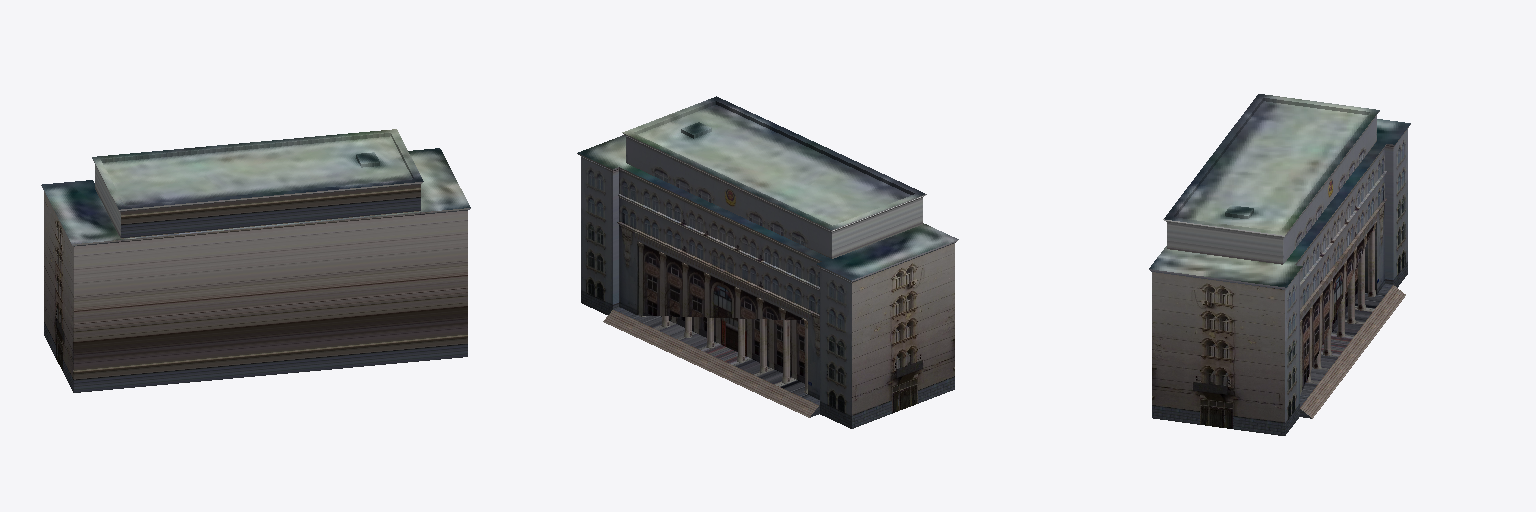
3 renders of one model, left to right at view 1: azimuth 30°, elevation 25°; view 2: azimuth 150°, elevation 25°; view 3: azimuth 270°, elevation 25°, orthographic.
Visible parts, largest first — view 1: Mesh9 Group1 Model; view 2: Mesh9 Group1 Model; view 3: Mesh9 Group1 Model.
Part boxes in pixels (x1,y1,x2,y2): Mesh9 Group1 Model: (41,129,470,392); Mesh9 Group1 Model: (577,96,958,428); Mesh9 Group1 Model: (1149,94,1410,435).
Size of the model in its own units: 56.4 by 25.92 by 34.18.
Materials: 8 (7 with a texture image).